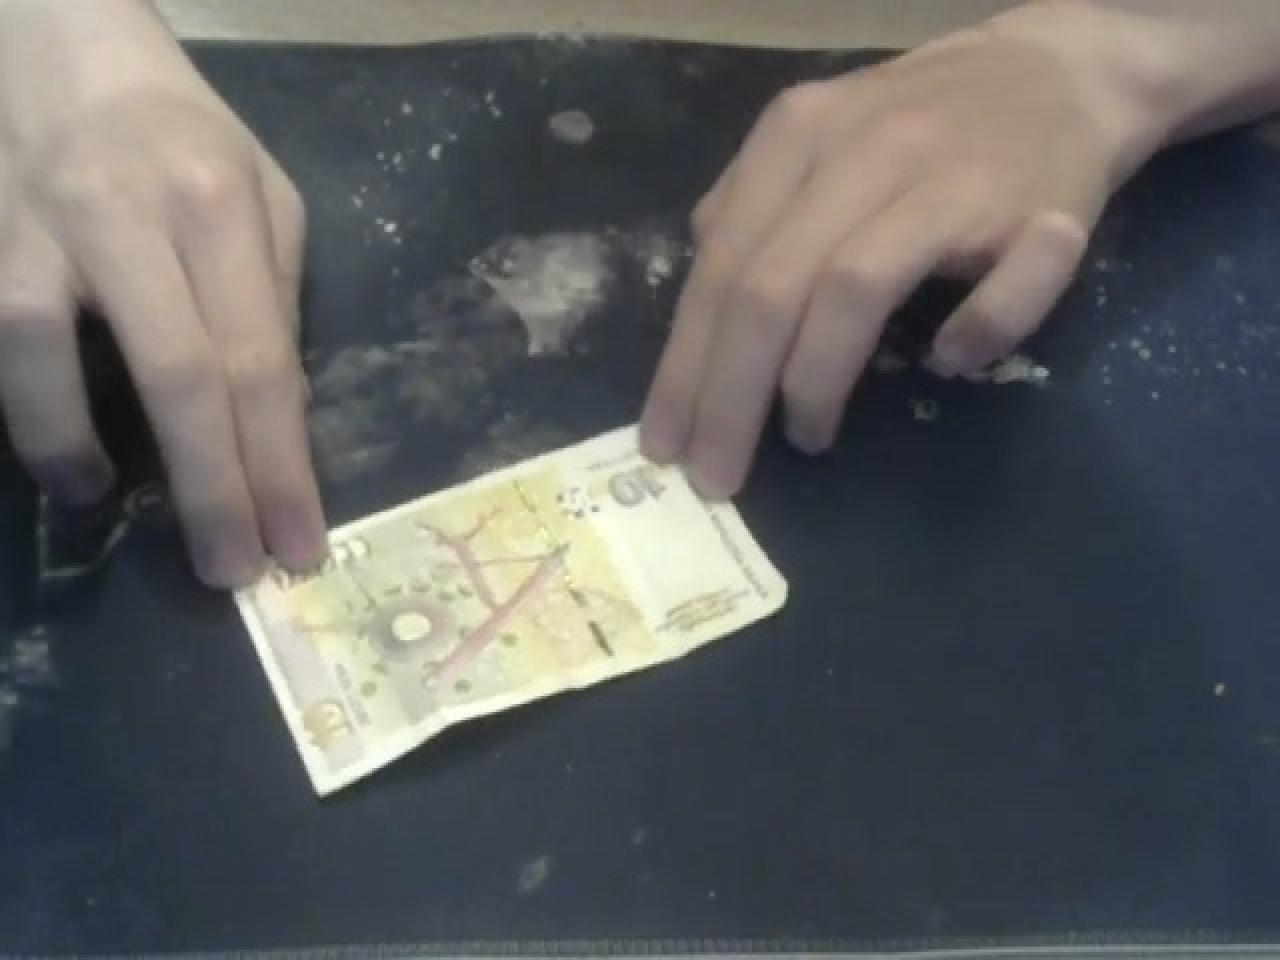10leva: (589, 435, 672, 546), (282, 686, 367, 776)
